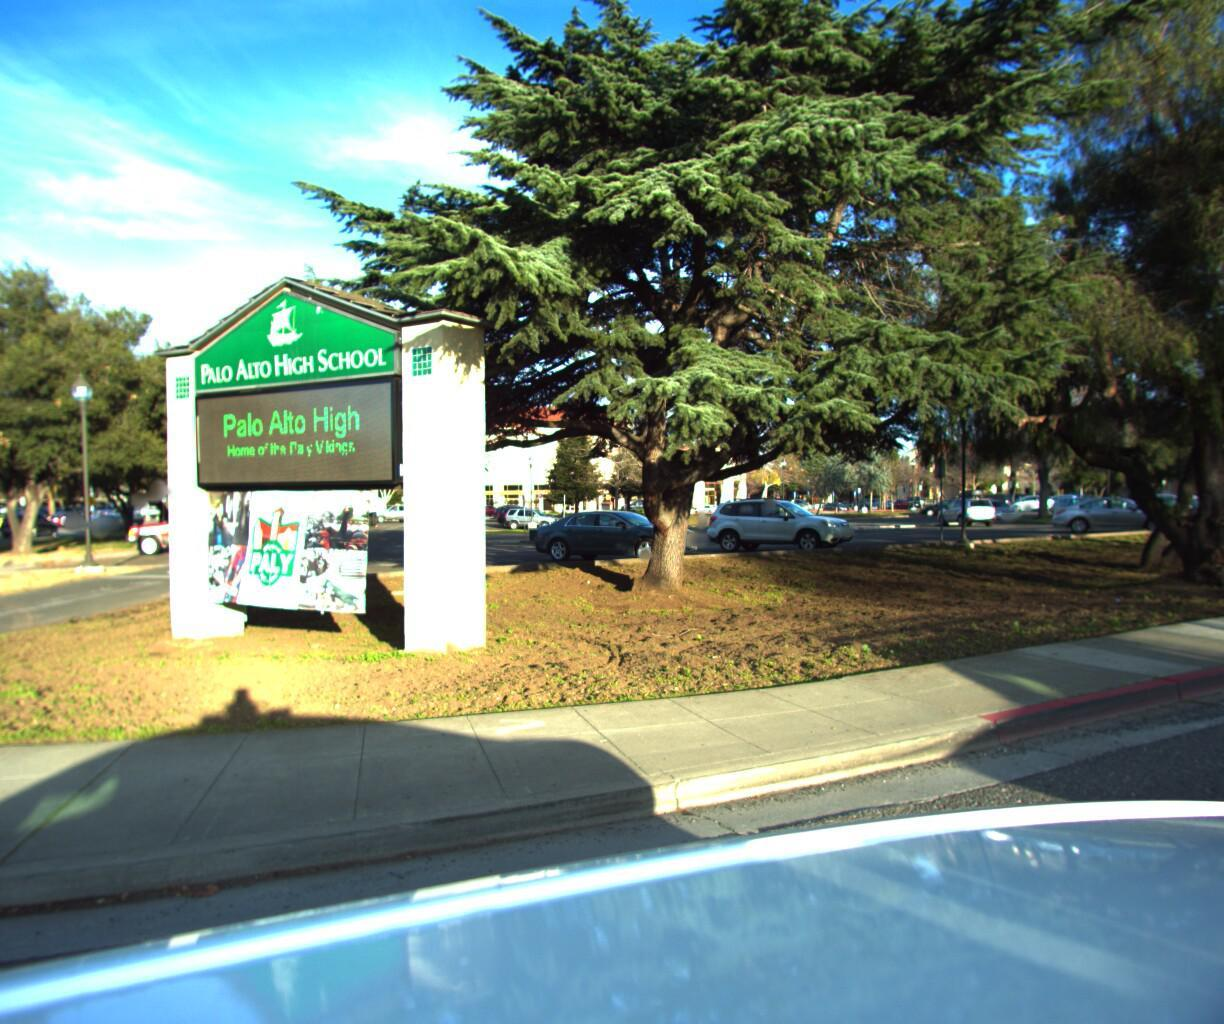car: (0, 509, 69, 542), (93, 506, 144, 531), (0, 511, 14, 547)
